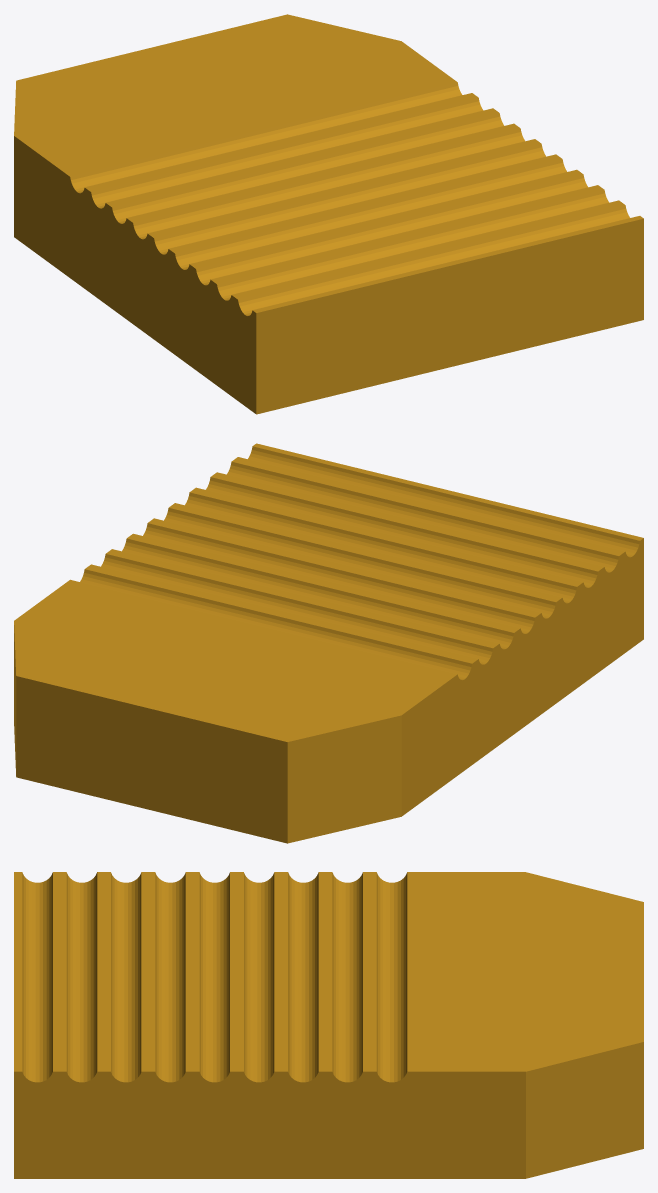
3 renders of one model, top to bottom at view 1: azimuth 30°, elevation 25°; view 2: azimuth 150°, elevation 25°; view 3: azimuth 270°, elevation 25°, orthographic. The views are drawn at different scales.
Visible parts, largest first — view 1: node0; view 2: node0; view 3: node0.
Part boxes in pixels (x1,y1,x2,y2): node0: [14, 14, 643, 414]; node0: [14, 443, 643, 843]; node0: [14, 872, 643, 1178].
Bounding box in the file's own units: 0.6 × 0.8 × 0.15.
